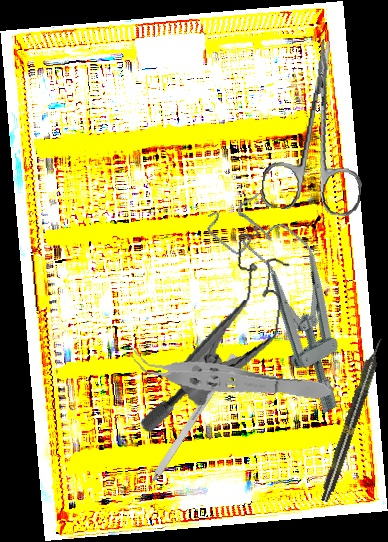Handpiece: (317, 336, 388, 504)
Hook Surgical: (136, 352, 238, 504)
Iris Scissors: (259, 35, 379, 218)
Speculum: (201, 180, 382, 422), (136, 211, 299, 450)
Tissue Forceps: (125, 346, 334, 409)
